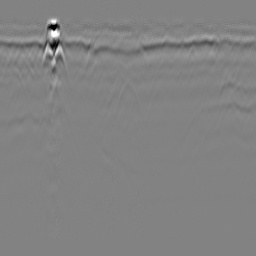cavity: (115, 75, 141, 118)
